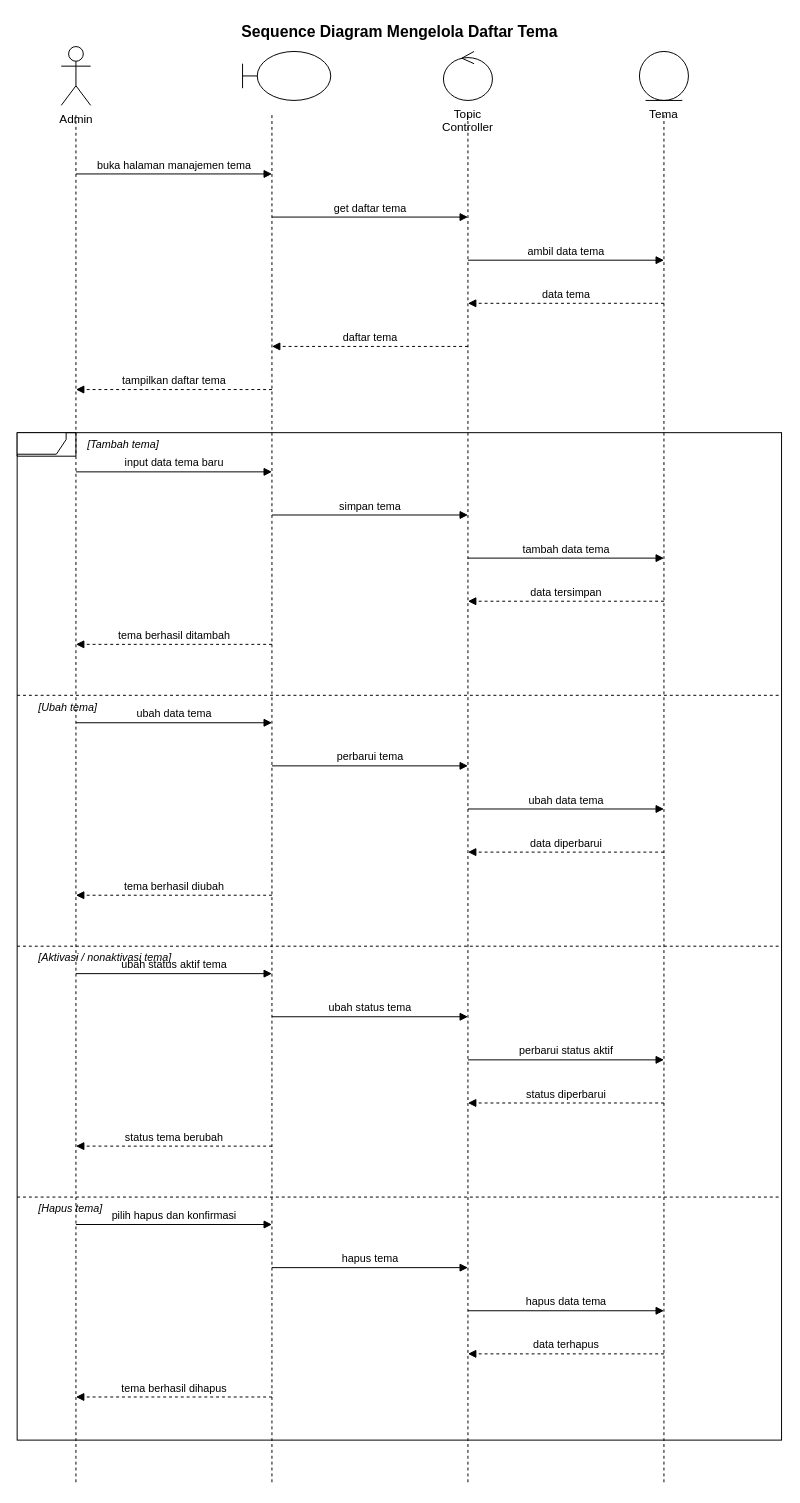
This 800x1503 diagram has some shape labels left out. The shapes that lost their labels are listed below. From the top down, each one's centre as x and y in pixels, then its label:
[286,75]: Tema View
[46,444]: alt
